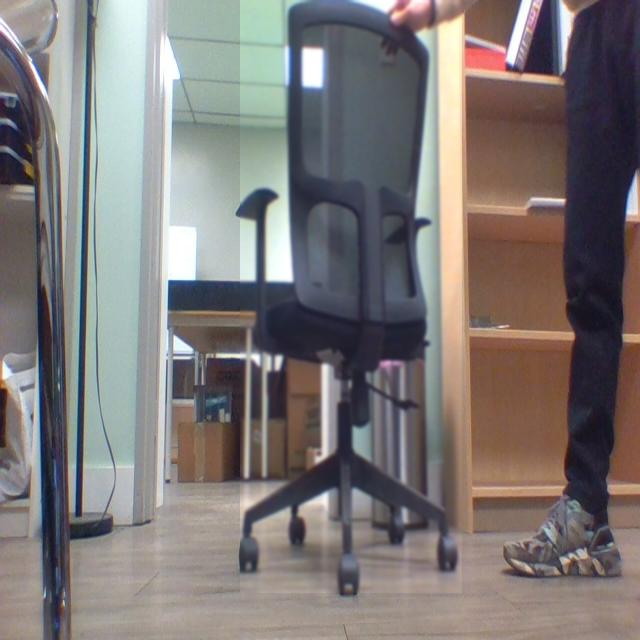black-chair: (240, 0, 463, 594)
